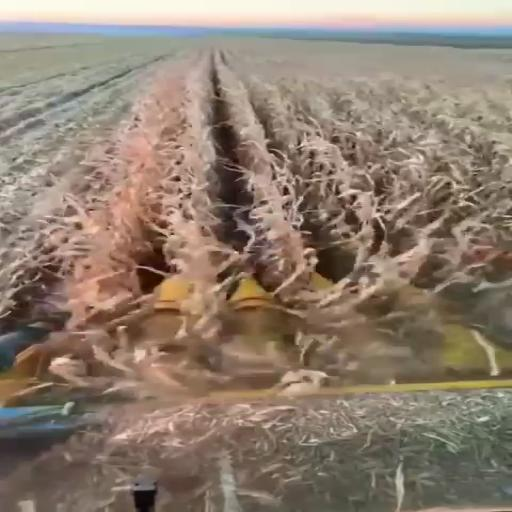misir: (0, 48, 511, 511)
